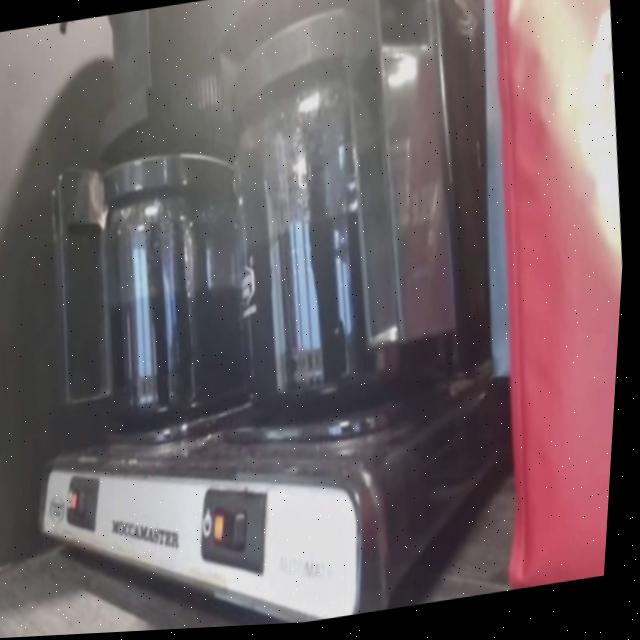coffee: (225, 115, 445, 424), (93, 199, 268, 428)
